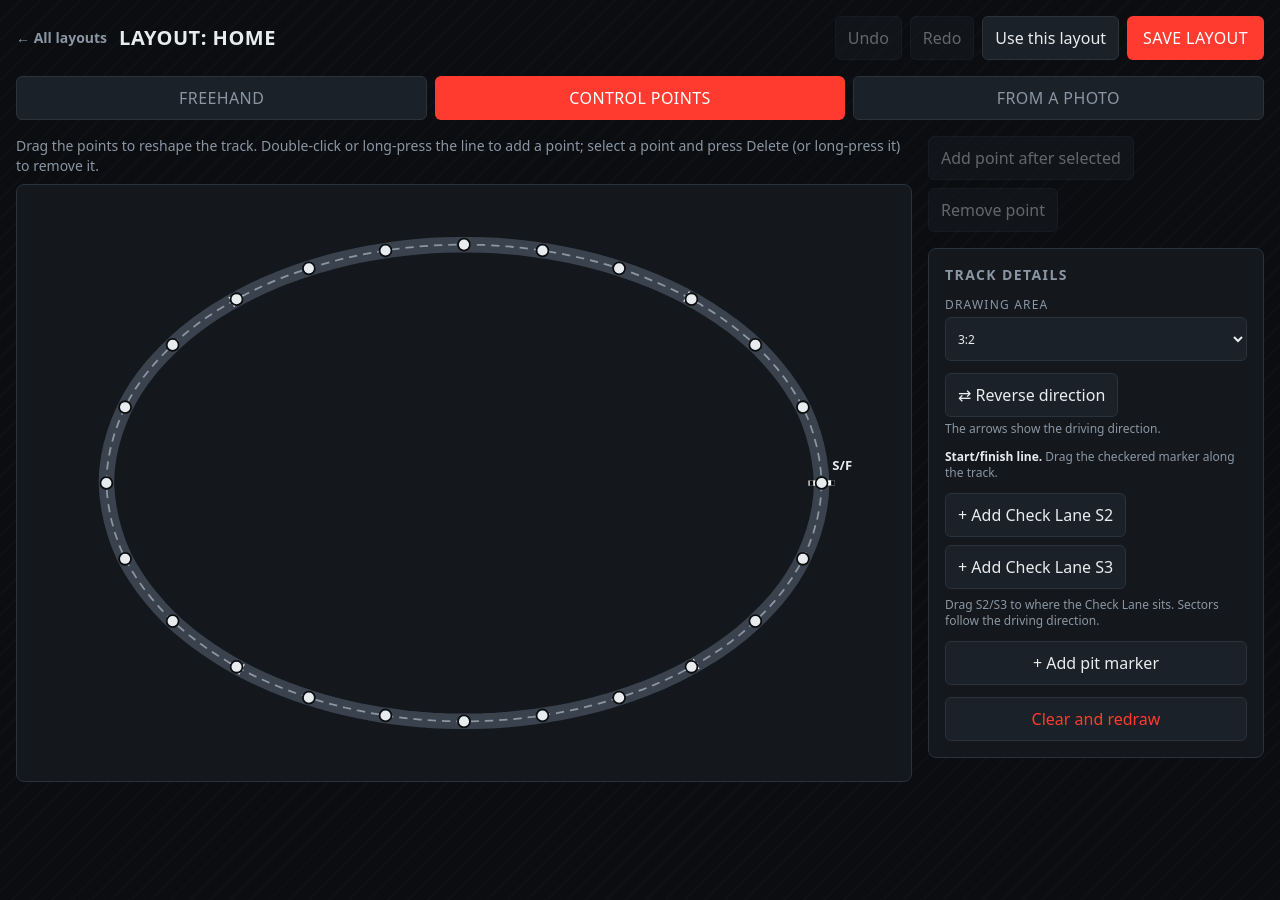
Scenario: TrackEditor › adds Check Lane sensors and saves them with the layout
Expected: the icon with test id "track-canvas" is shown, [16, 184, 912, 782]
Click the button "+ Add Check Lane S2": (1036, 515) [945, 493, 1126, 537]
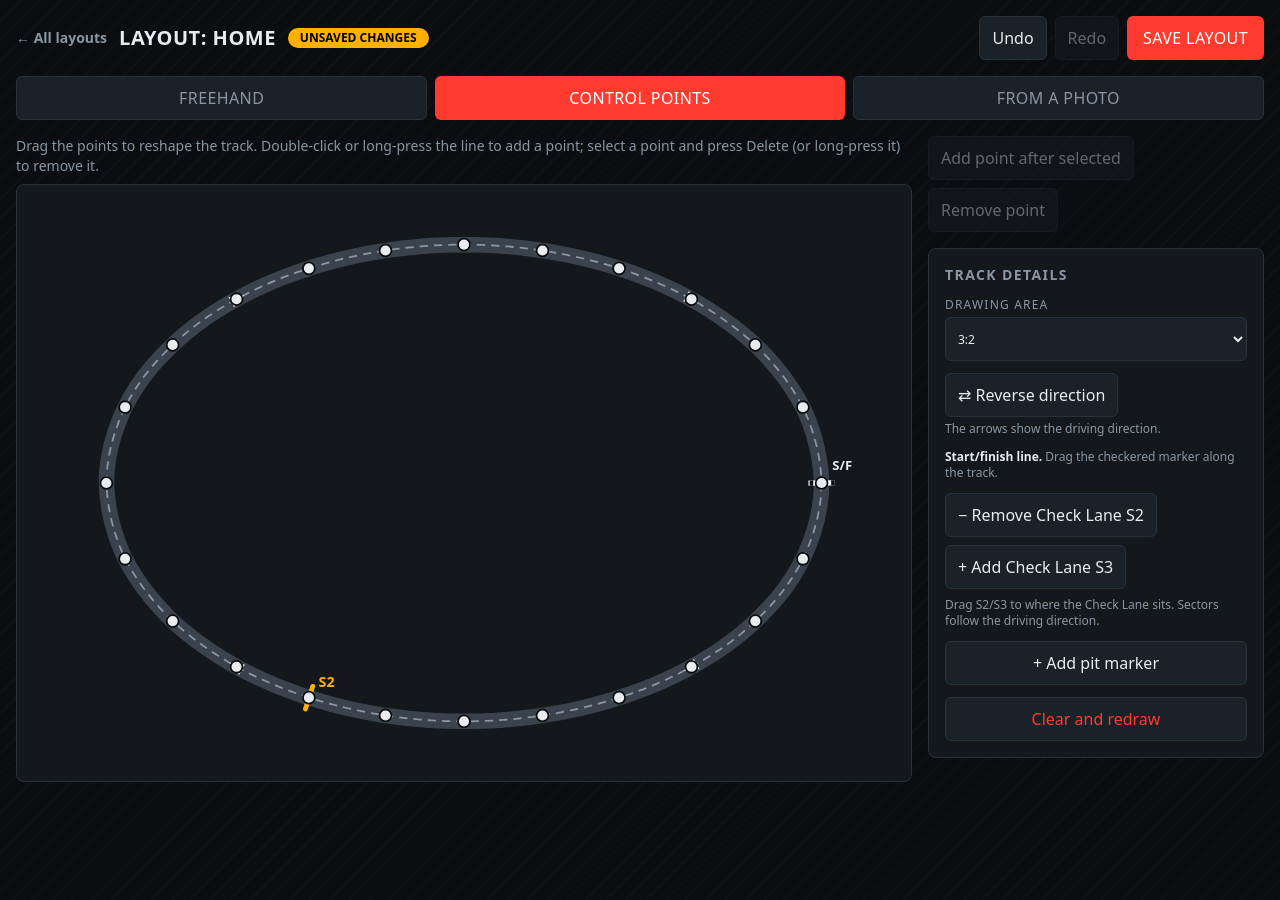
Expected: the element with test id "marker-sensor-2" is shown, [319, 672, 335, 691]
Click the button "Save layout": (1196, 38) [1127, 16, 1264, 60]
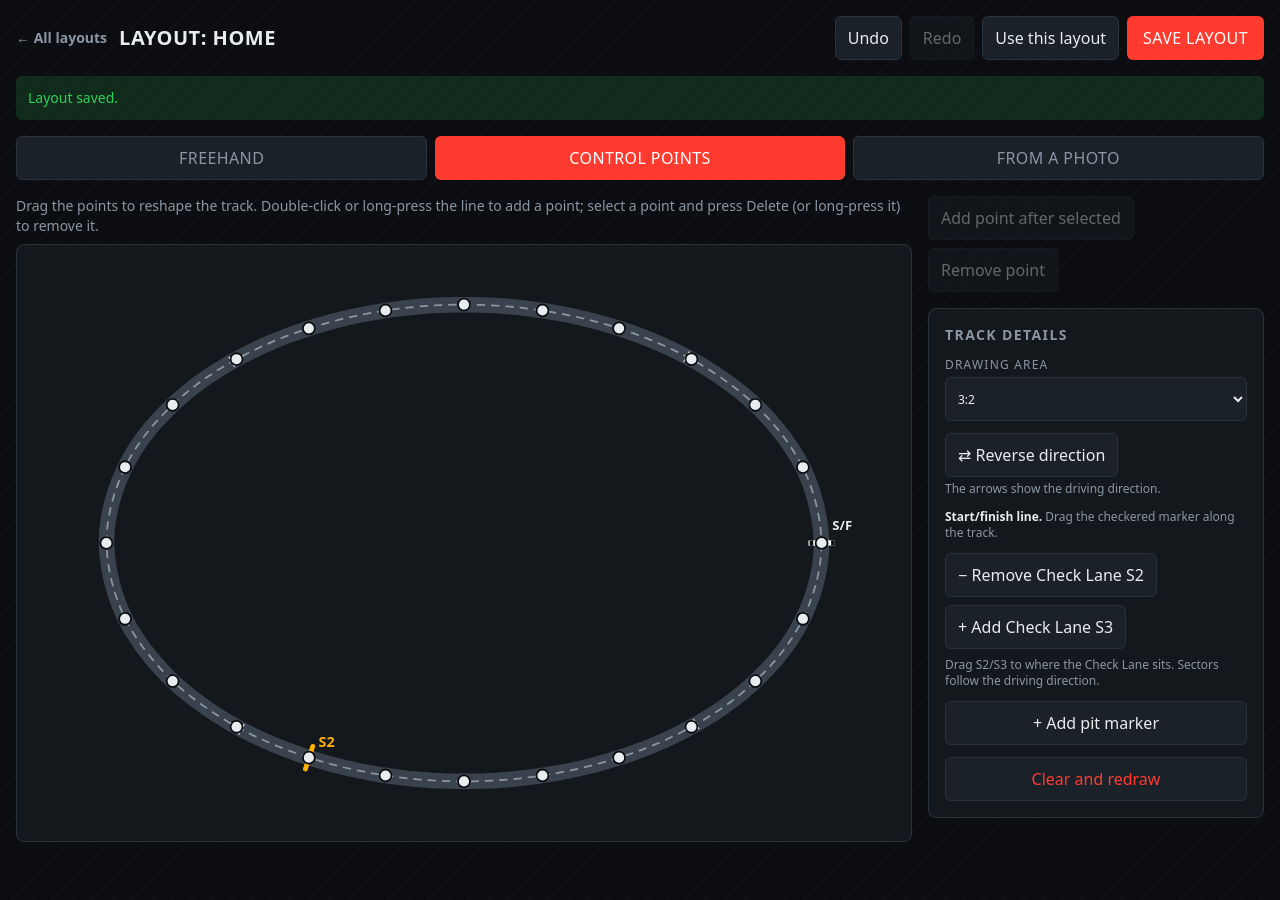
Expected: the text with test id "dirty-badge" is gone
